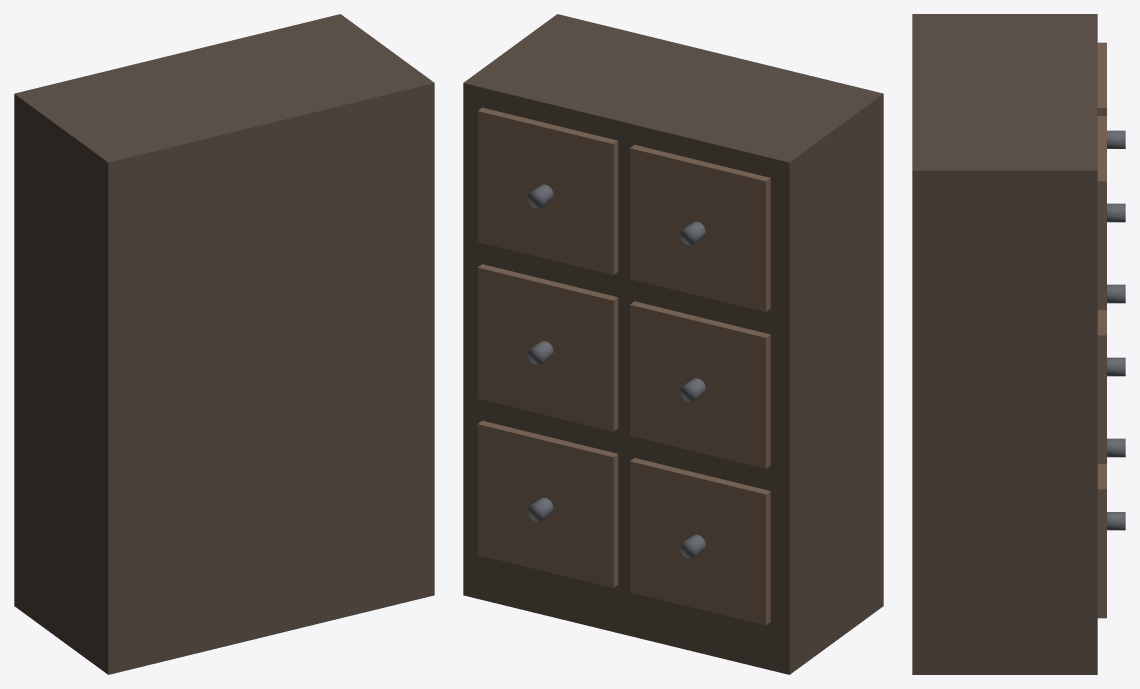
Rendered from prop_tansu.glb.
3 renders of one model, left to right at view 1: azimuth 30°, elevation 25°; view 2: azimuth 150°, elevation 25°; view 3: azimuth 270°, elevation 25°, orthographic.
Parts seen in each view (by area): view 1: tansu; view 2: tansu; view 3: tansu.
Part boxes in pixels (box(x1,y1,x2,y2)): tansu: box(14, 14, 434, 674); tansu: box(463, 14, 883, 674); tansu: box(912, 14, 1125, 674).
Bounding box in the file's own units: 1.2 × 1.8 × 0.69.
